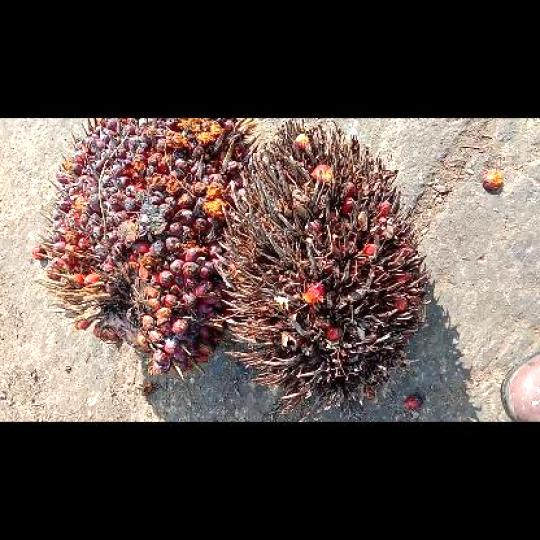masak: (34, 118, 254, 378)
terlalu masak: (214, 117, 430, 415)
